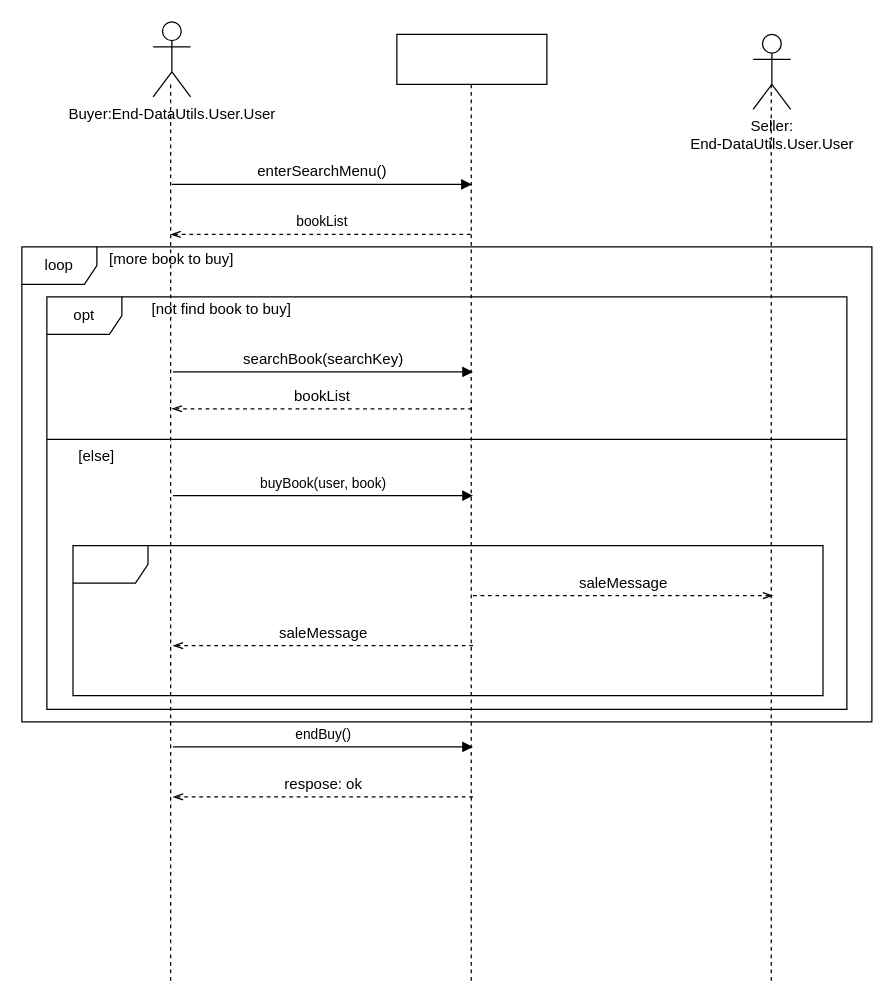
Some shapes in this 894 by 1008 pixel diagram are drawn without their labels. Each missing label, with the centre of its shape:
:System: the point at 471,58
par: the point at 447,620
